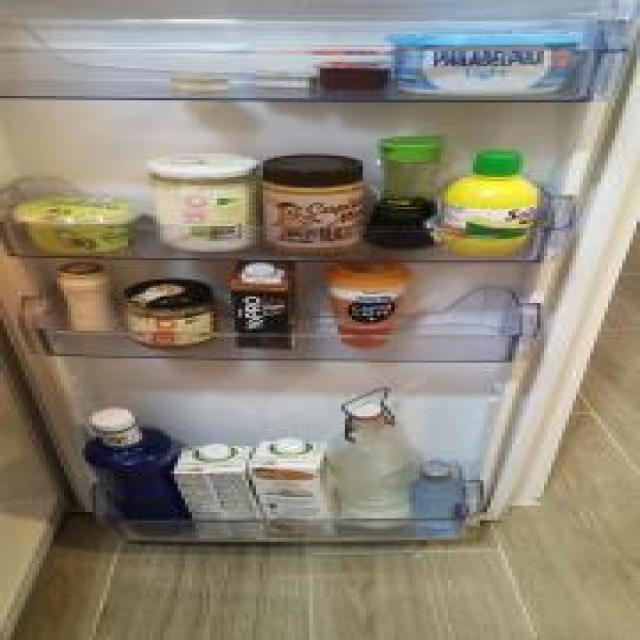guacamole: (9, 191, 140, 257)
milk: (247, 436, 340, 543), (167, 441, 260, 545)
yogurt: (146, 152, 263, 258), (226, 262, 304, 352), (52, 259, 119, 338)
